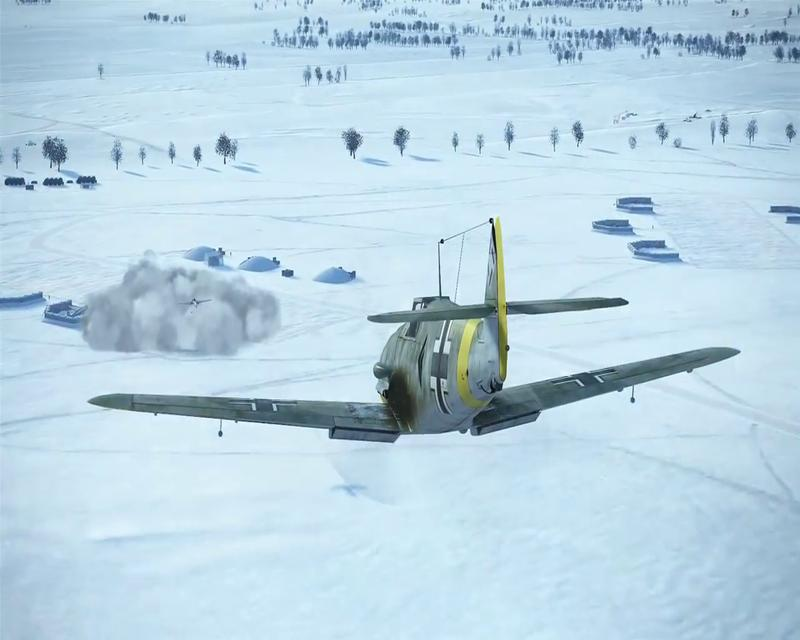UAV: (86, 215, 741, 443)
